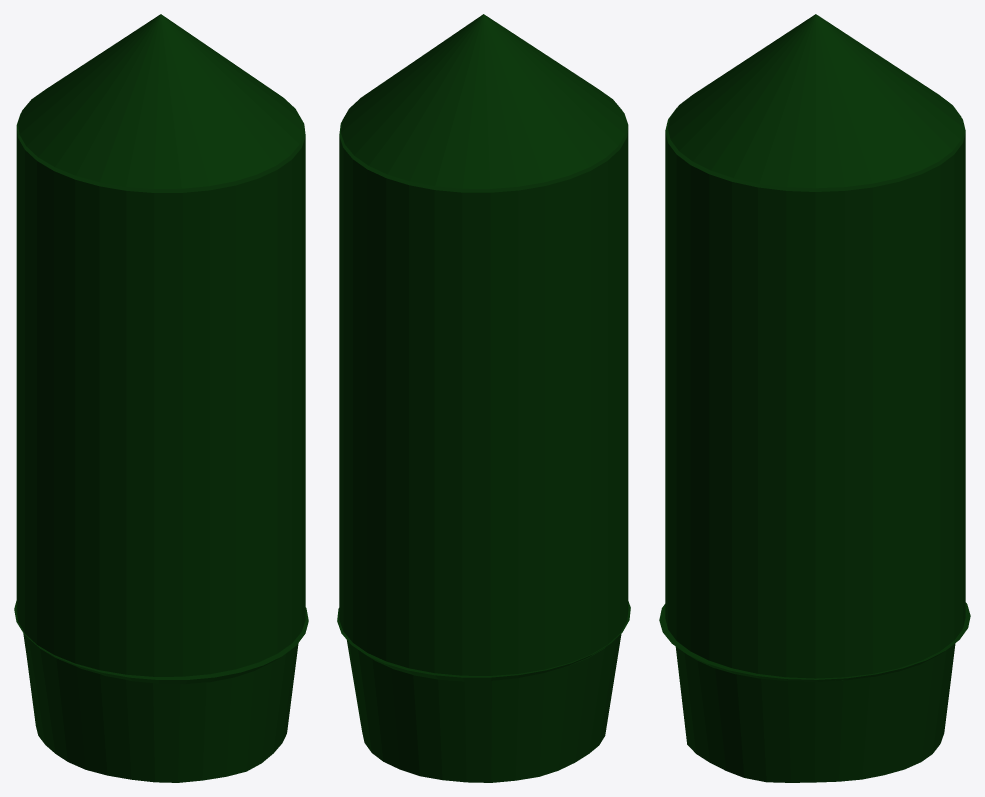
The model's file is Bomb.glb.
3 views of the same model, side by side, from view 1: azimuth 30°, elevation 25°; view 2: azimuth 150°, elevation 25°; view 3: azimuth 270°, elevation 25° (orthographic).
Parts seen in each view (by area): view 1: Cylinder, Cone, Cylinder.001, Cone.001; view 2: Cylinder, Cone, Cylinder.001, Cone.001; view 3: Cylinder, Cone, Cylinder.001, Cone.001.
Part boxes in pixels (x1=…): Cylinder: x1=16, y1=113, x2=305, y2=676; Cone: x1=18, y1=14, x2=303, y2=188; Cylinder.001: x1=23, y1=633, x2=298, y2=782; Cone.001: x1=14, y1=601, x2=308, y2=684; Cylinder: x1=339, y1=112, x2=628, y2=675; Cone: x1=341, y1=14, x2=626, y2=188; Cylinder.001: x1=347, y1=633, x2=621, y2=782; Cone.001: x1=337, y1=601, x2=630, y2=681; Cylinder: x1=665, y1=108, x2=965, y2=678; Cone: x1=668, y1=14, x2=963, y2=188; Cylinder.001: x1=675, y1=643, x2=955, y2=782; Cone.001: x1=659, y1=602, x2=970, y2=681.
Bounding box in the file's own units: 1.69 × 4.61 × 1.81.
